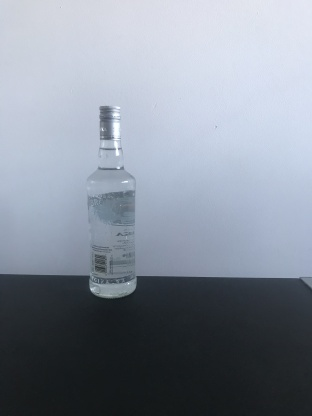nakretka: (97, 102, 122, 143)
